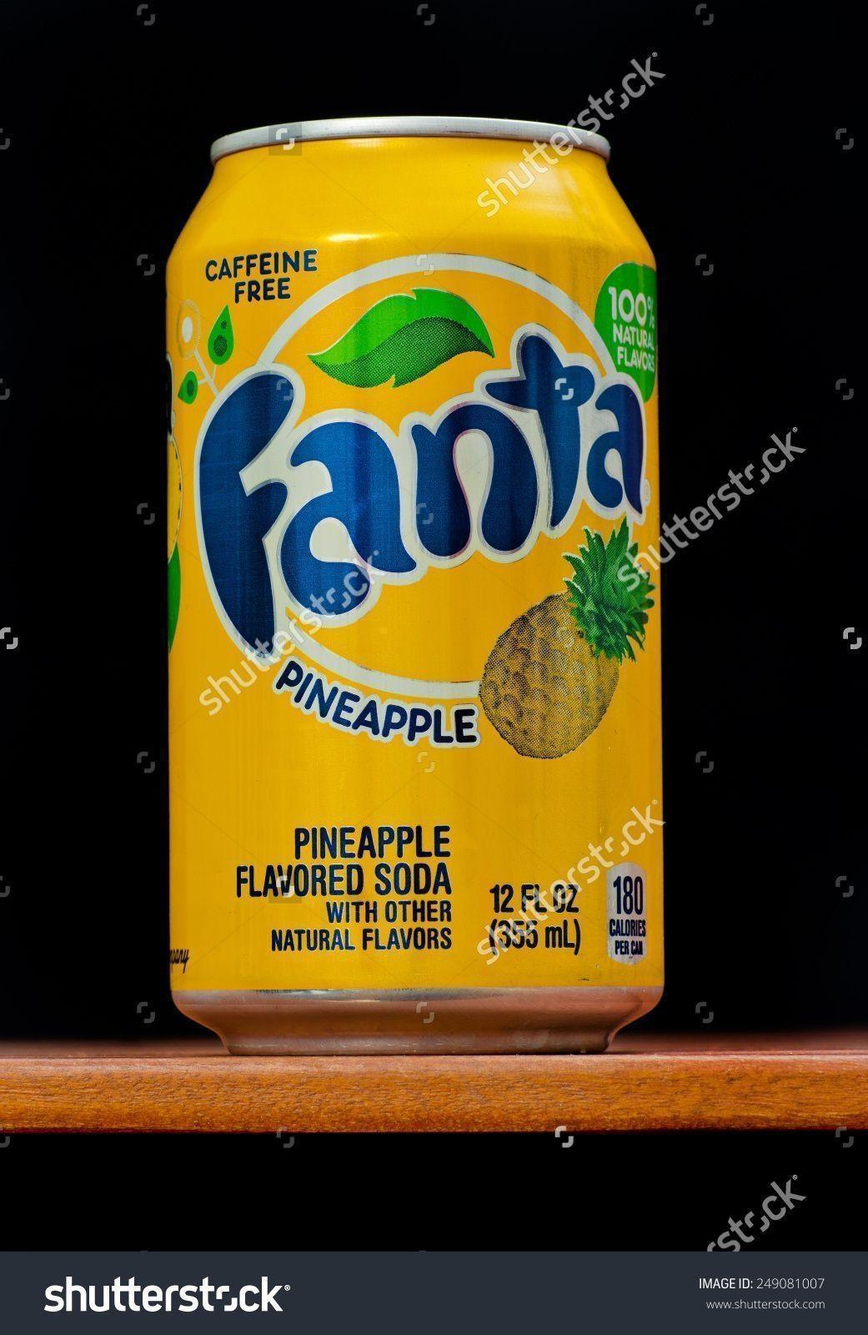tin can: (159, 109, 667, 1061)
